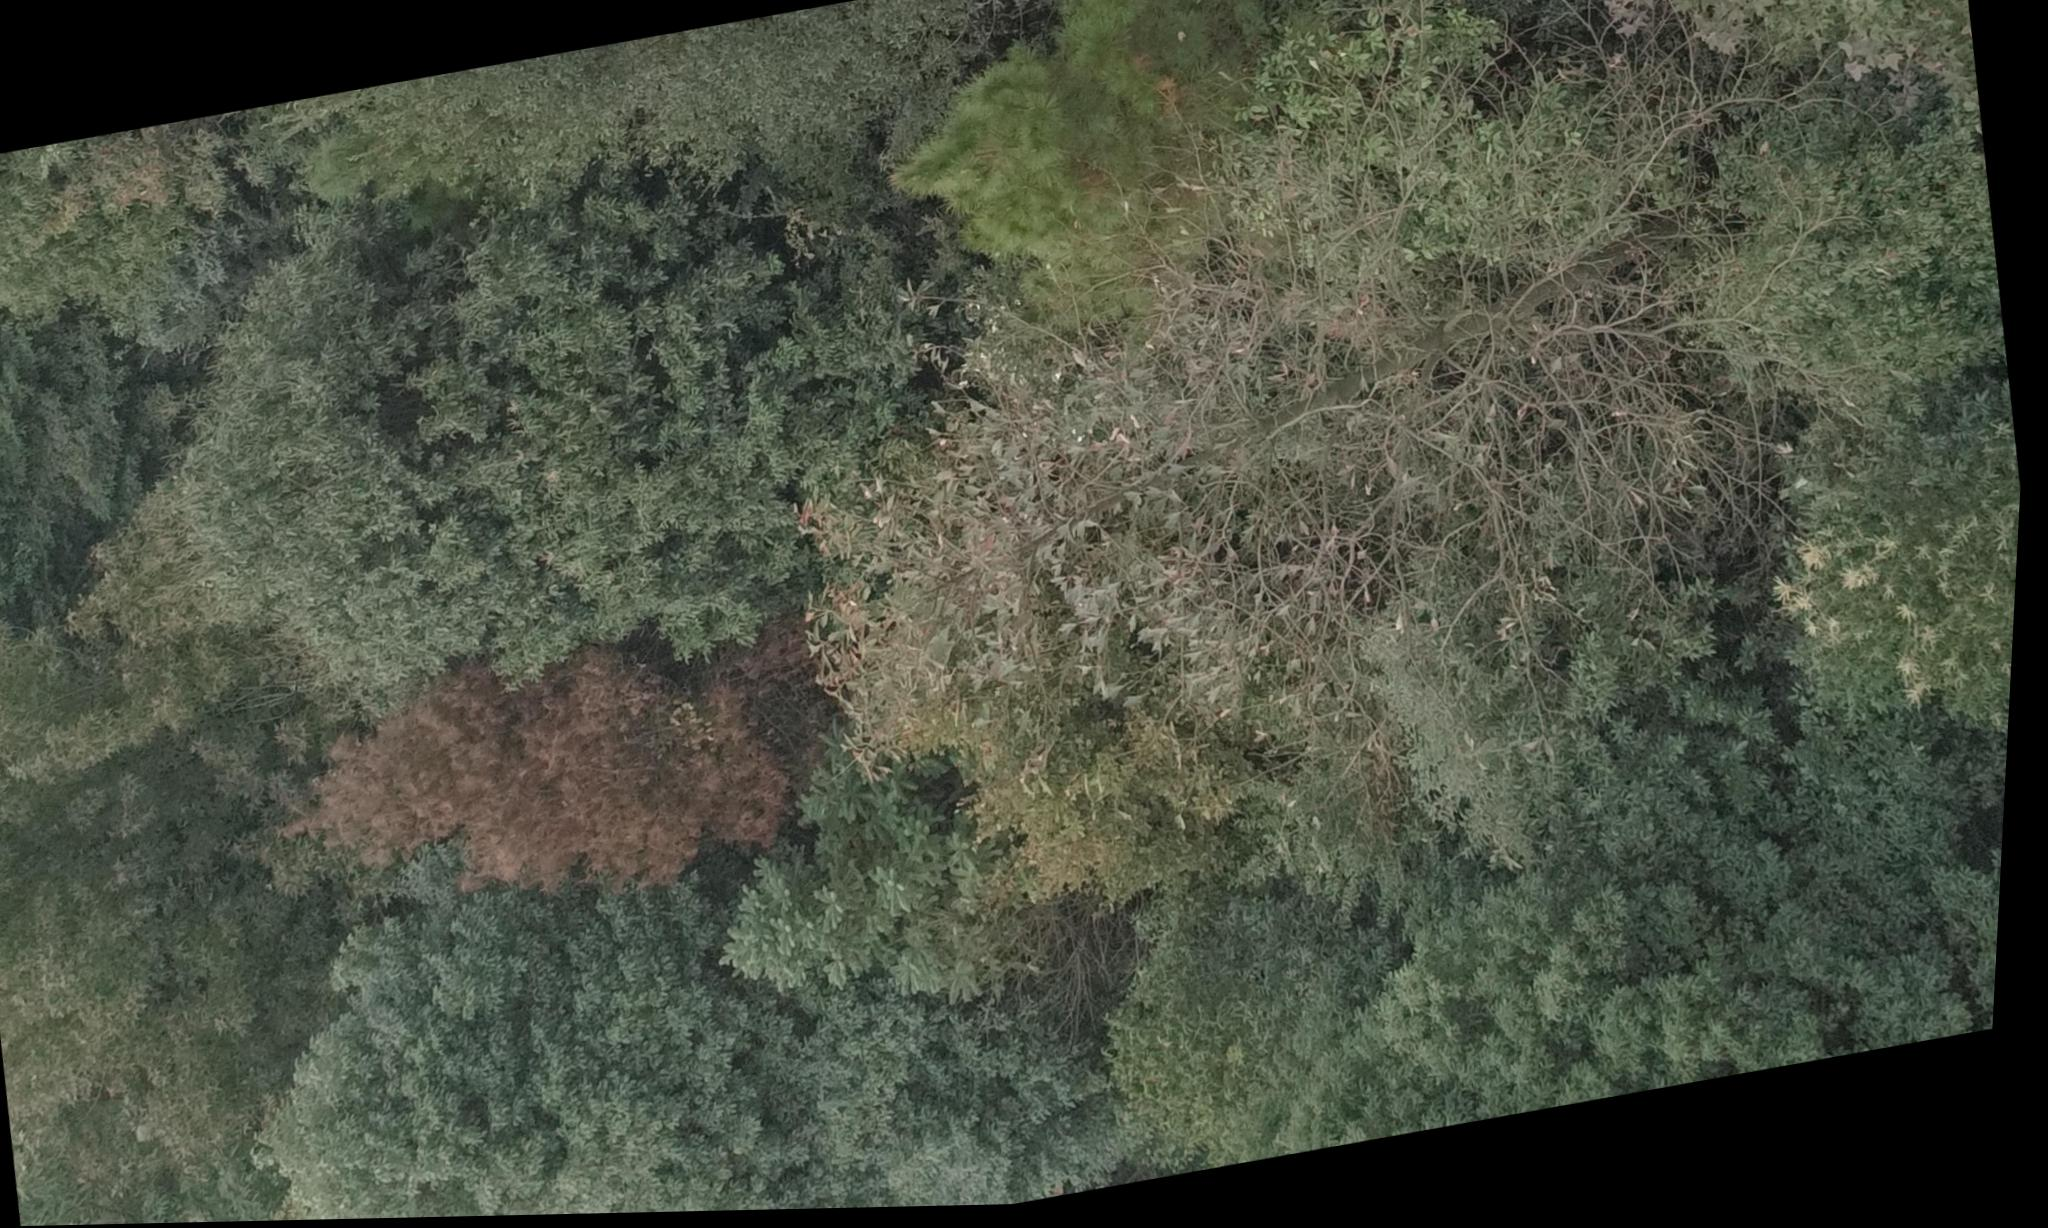dead: (1101, 133, 1764, 713)
heavy: (262, 614, 823, 952)
